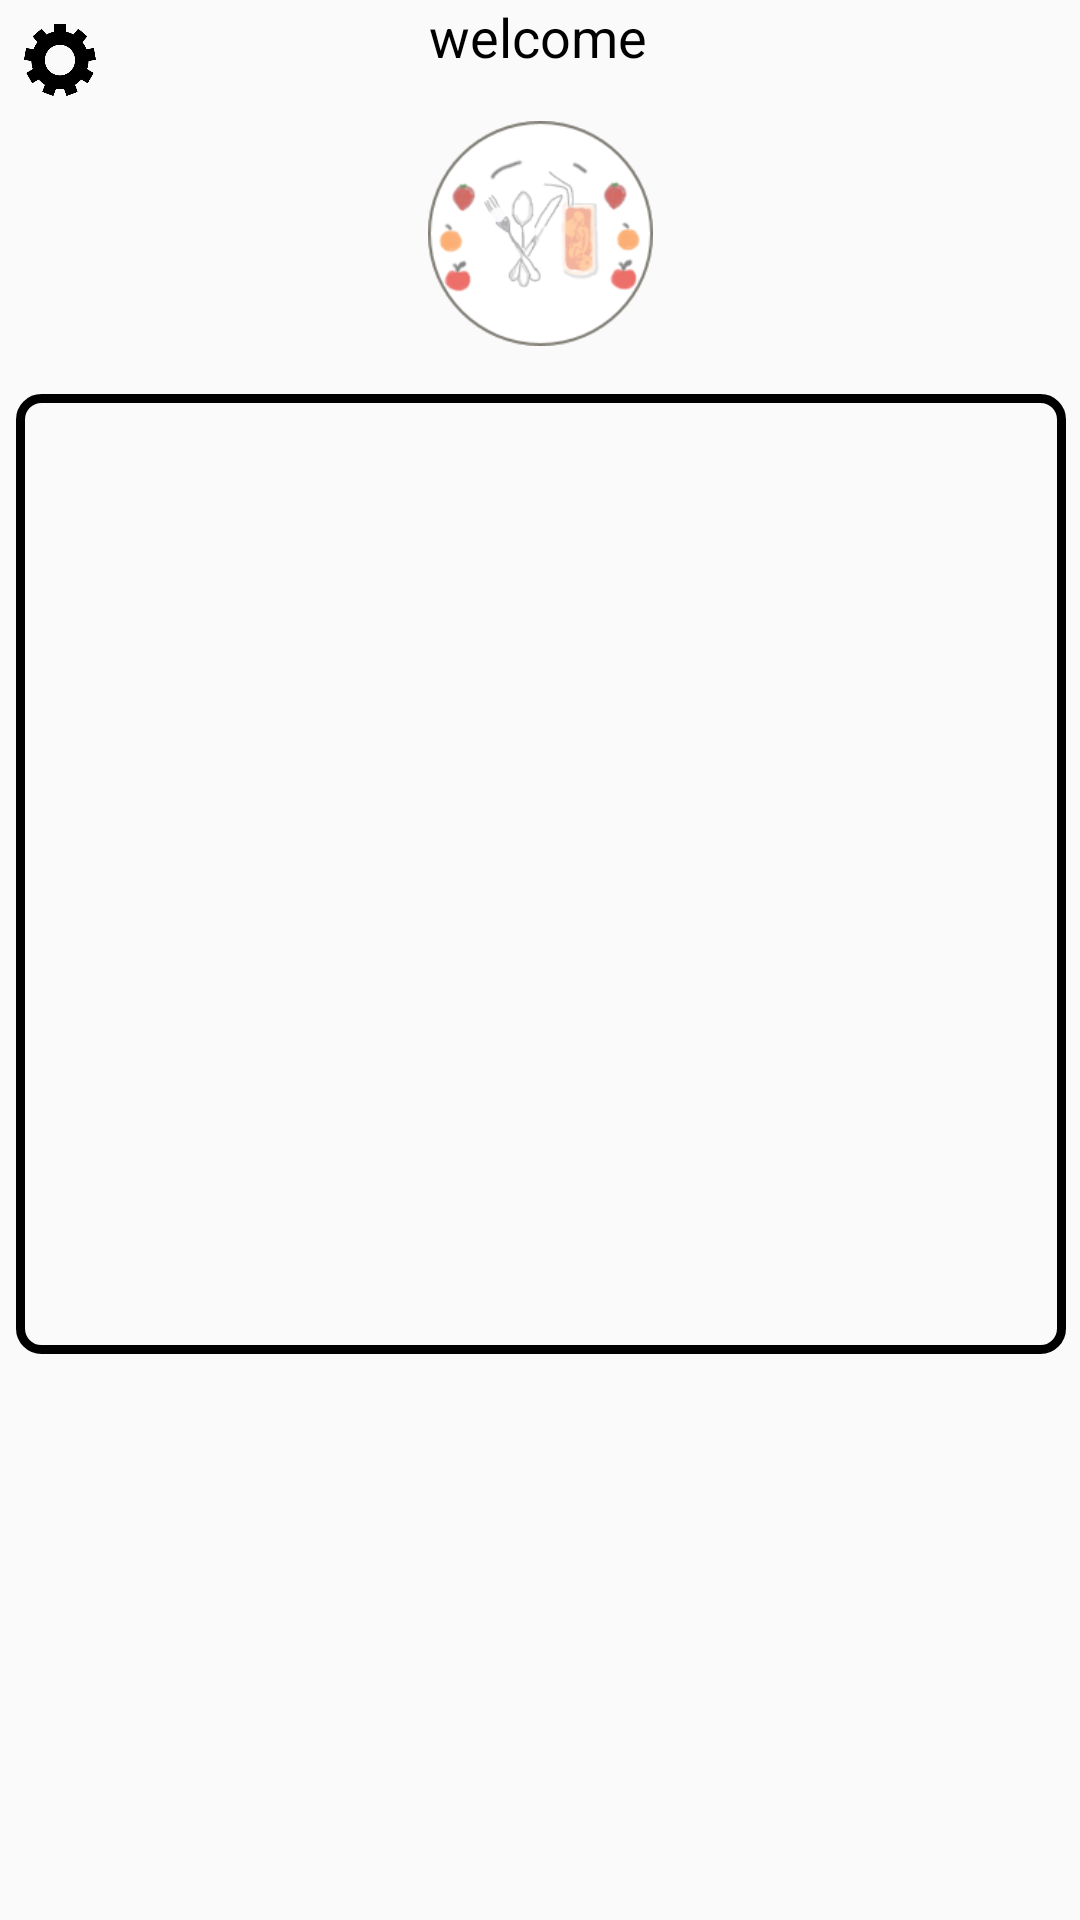

Icons on this 1080×1920 Android screen, each with the point to tap as [x,y]:
options: [60,60]
